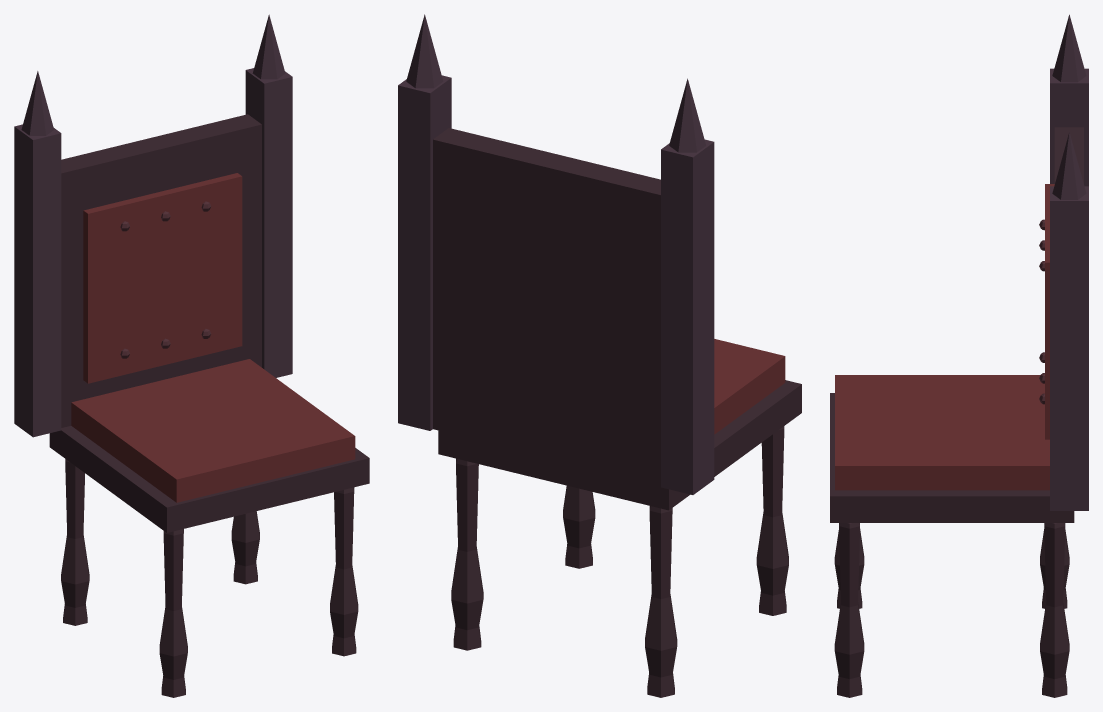
The model's file is scaun_sah.glb.
3 renders of one model, left to right at view 1: azimuth 30°, elevation 25°; view 2: azimuth 150°, elevation 25°; view 3: azimuth 270°, elevation 25°, orthographic. The views are drawn at different scales.
Parts seen in each view (by area): view 1: Scaun; view 2: Scaun; view 3: Scaun.
Part boxes in pixels (box(x1,y1,x2,y2)): Scaun: box(14, 14, 369, 697); Scaun: box(398, 14, 801, 697); Scaun: box(830, 14, 1088, 697).
Size of the model in its own units: 0.64 by 1.3 by 0.53.
